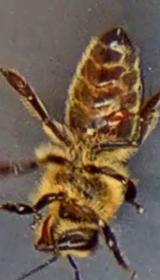varroa_mite: (90, 91, 137, 137)
